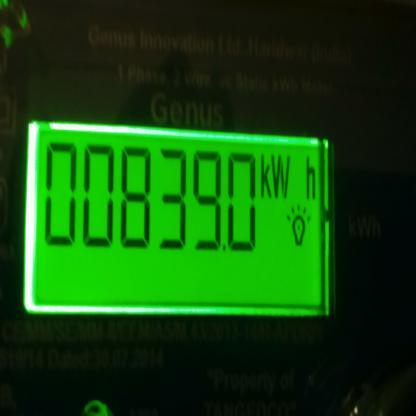.: (259, 149, 321, 200)
0: (218, 243, 231, 254)
1: (41, 137, 79, 250), (83, 139, 117, 251), (227, 153, 259, 254)
4: (160, 144, 186, 254)
9: (118, 143, 155, 251)
:: (189, 151, 226, 255)
